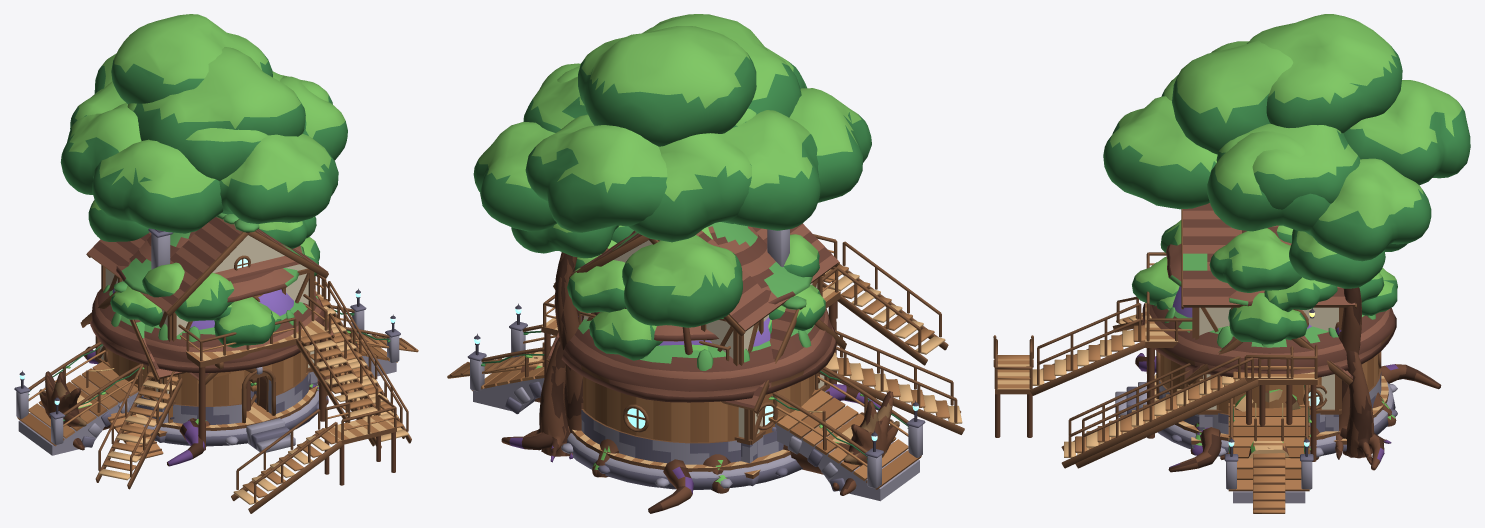
The model's file is elderglow_village.glb.
3 views of the same model, side by side, from view 1: azimuth 30°, elevation 25°; view 2: azimuth 150°, elevation 25°; view 3: azimuth 270°, elevation 25° (orthographic). The views are drawn at different scales.
Parts seen in each view (by area): view 1: EG_House_H, EG_House_D, EG_House_D_canopy4, EG_House_D_canopy2, EG_Bridge_Arch, EG_House_H_canopy4, EG_House_D_canopy3, EG_House_F_roof, EG_House_D_roof, EG_Oak_B, EG_House_B, EG_House_H_canopy1 (+14 smaller); view 2: EG_House_D, EG_House_H_canopy4, EG_Bridge_Arch, EG_House_D_roof, EG_House_H_canopy2, EG_House_G_canopy0, EG_House_D_canopy1, EG_House_H_canopy1, EG_Oak_B, EG_House_B, EG_House_B_canopy1, EG_House_H (+14 smaller); view 3: EG_House_H_canopy4, EG_House_D_canopy4, EG_House_D_canopy3, EG_House_H_canopy2, EG_House_D, EG_House_B_canopy1, EG_House_H, EG_House_D_roof, EG_Oak_B, EG_House_D_canopy0, EG_House_C, EG_House_H_canopy0 (+13 smaller).
Boxes of the visible parts, x1,y1,x2,y2 form: EG_House_H: (178, 294, 396, 513); EG_House_D: (84, 346, 336, 466); EG_House_D_canopy4: (133, 47, 305, 149); EG_House_D_canopy2: (92, 139, 223, 233); EG_Bridge_Arch: (14, 288, 400, 455); EG_House_H_canopy4: (111, 14, 272, 103); EG_House_D_canopy3: (219, 133, 338, 223); EG_House_F_roof: (86, 213, 328, 316); EG_House_D_roof: (90, 285, 324, 372); EG_Oak_B: (110, 237, 319, 347); EG_House_B: (95, 363, 268, 489); EG_House_H_canopy1: (60, 103, 141, 194); EG_House_D: (501, 374, 880, 513); EG_House_H_canopy4: (578, 26, 756, 146); EG_Bridge_Arch: (467, 303, 925, 501); EG_House_D_roof: (561, 307, 836, 402); EG_House_H_canopy2: (525, 114, 667, 232); EG_House_G_canopy0: (622, 235, 742, 327); EG_House_D_canopy1: (628, 133, 751, 242); EG_House_H_canopy1: (720, 110, 820, 230); EG_Oak_B: (567, 234, 825, 360); EG_House_B: (554, 252, 964, 459); EG_House_B_canopy1: (473, 122, 556, 231); EG_House_H: (578, 234, 948, 384); EG_House_H_canopy4: (1247, 14, 1402, 133); EG_House_D_canopy4: (1172, 40, 1293, 154); EG_House_D_canopy3: (1103, 96, 1217, 209); EG_House_H_canopy2: (1343, 80, 1470, 185); EG_House_D: (1115, 351, 1441, 472); EG_House_B_canopy1: (1305, 158, 1431, 261); EG_House_H: (993, 252, 1192, 438); EG_House_D_roof: (1141, 303, 1396, 377); EG_Oak_B: (1132, 220, 1397, 344); EG_House_D_canopy0: (1207, 131, 1330, 231); EG_House_C: (1061, 346, 1293, 468); EG_House_H_canopy0: (1216, 123, 1360, 209).
Bounding box in the file's own units: 17.51 × 16.04 × 17.75.
